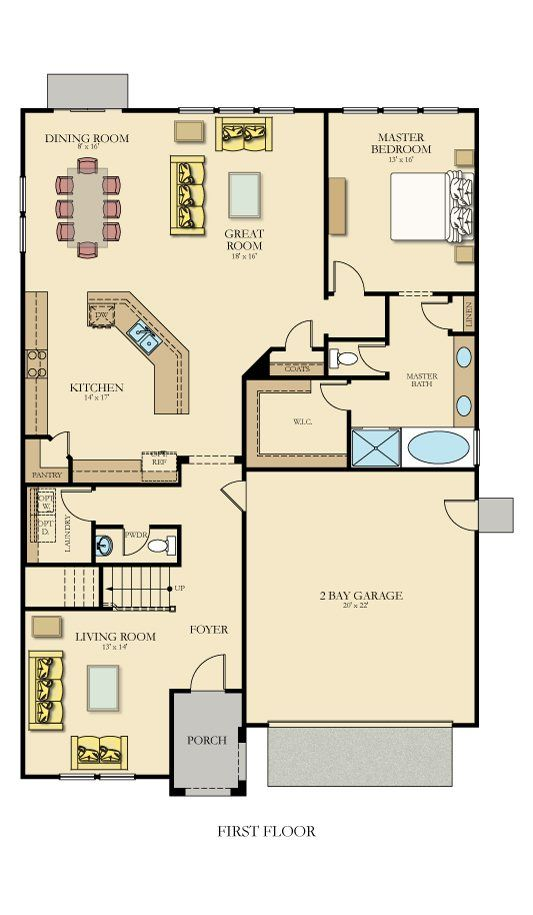door: (185, 649, 230, 687), (440, 496, 473, 534), (56, 488, 91, 523), (329, 258, 367, 289), (283, 314, 316, 349), (417, 299, 449, 333), (356, 342, 386, 372), (117, 529, 149, 557)
room: (324, 108, 479, 295), (19, 606, 175, 778)
window: (18, 177, 27, 211), (18, 217, 27, 251), (472, 429, 481, 463), (58, 772, 95, 780), (99, 773, 136, 781), (178, 107, 213, 114), (219, 107, 254, 114), (258, 107, 293, 114), (342, 107, 377, 114), (382, 107, 417, 114), (422, 107, 457, 114)
